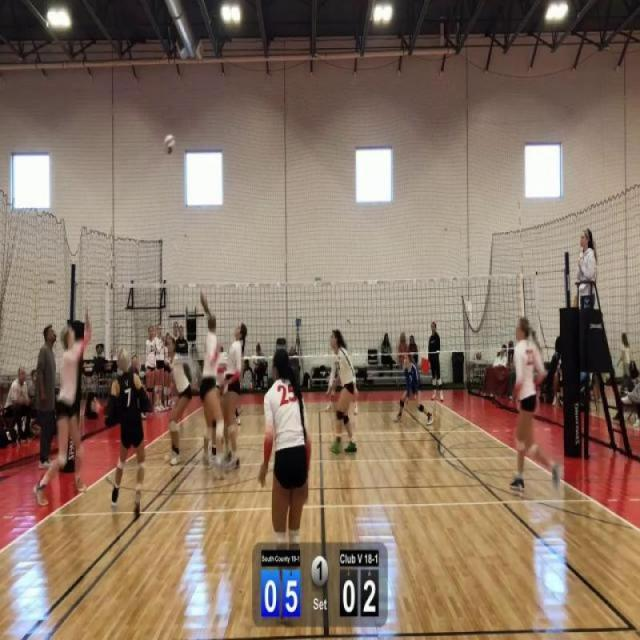volleyball: (162, 133, 175, 156)
